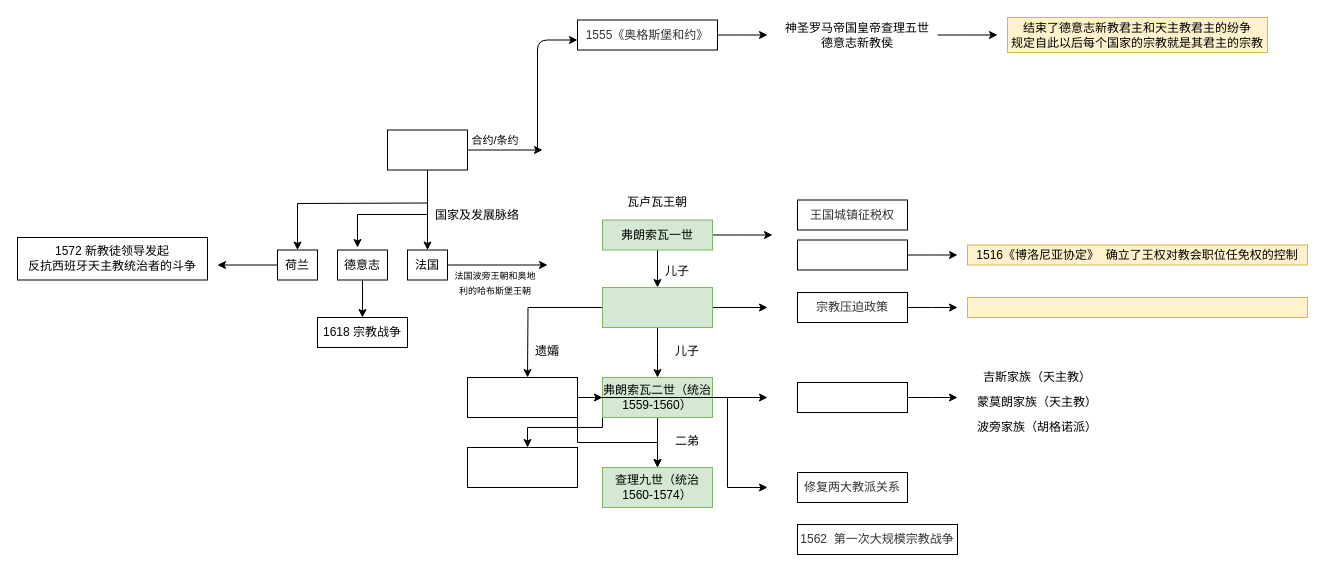
Image size: 1325x572. Some labels were removed from this diagram. The centre of each missing label's shape, as x and y in pixels:
"1559《卡托-康布雷奇合约》 结束法兰西和西班牙之间的战争" belongs at [1137,307].
"三大家族" belongs at [852,397].
"亨利二世（统治1547-1559）" belongs at [657,307].
"凯瑟琳·德·美第奇（摄政王）" belongs at [522,397].
"削弱天主教会权威" belongs at [852,254].
"宗教战争" belongs at [427,149].
"玛丽·斯图亚特 （苏格兰女王）" belongs at [522,467].
